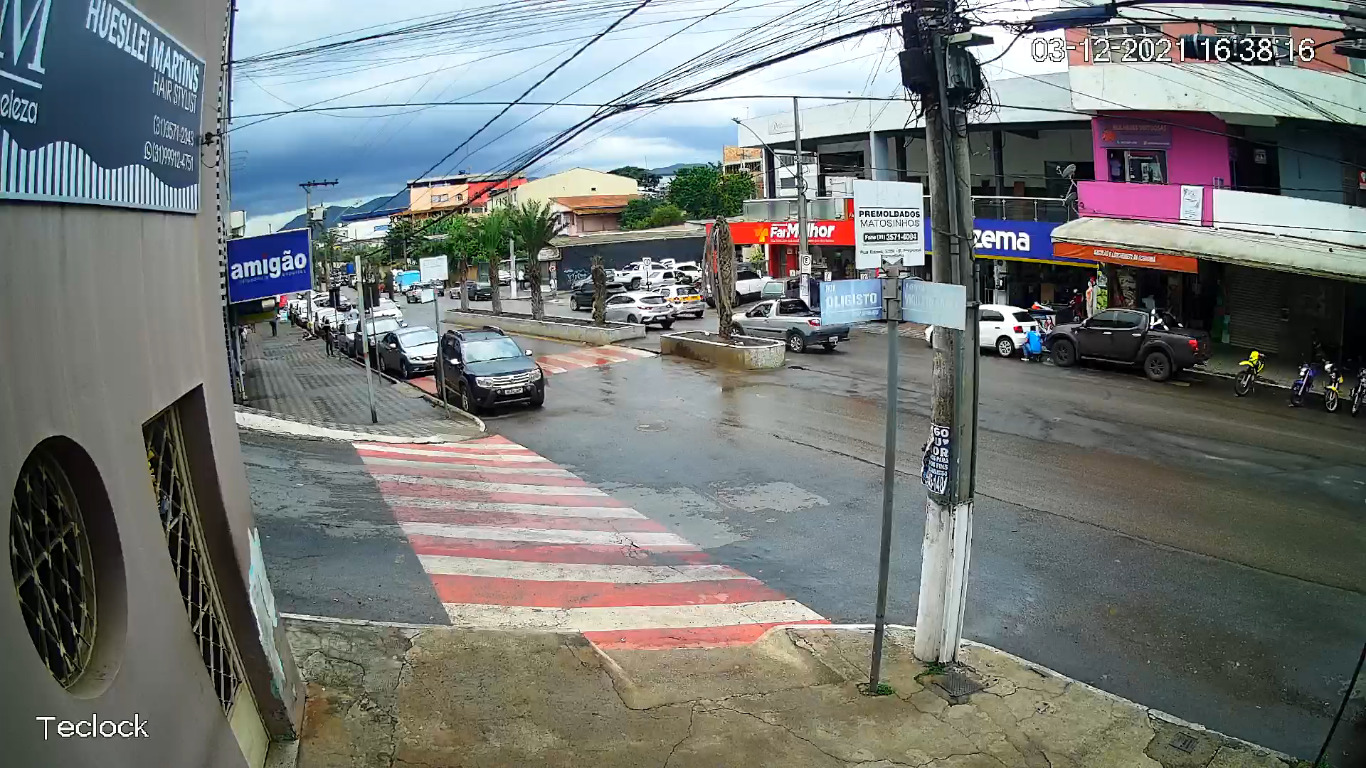car: (722, 296, 853, 357), (588, 286, 680, 334)
motorcycle: (1317, 348, 1345, 413), (1233, 346, 1266, 397), (1289, 352, 1315, 408)
